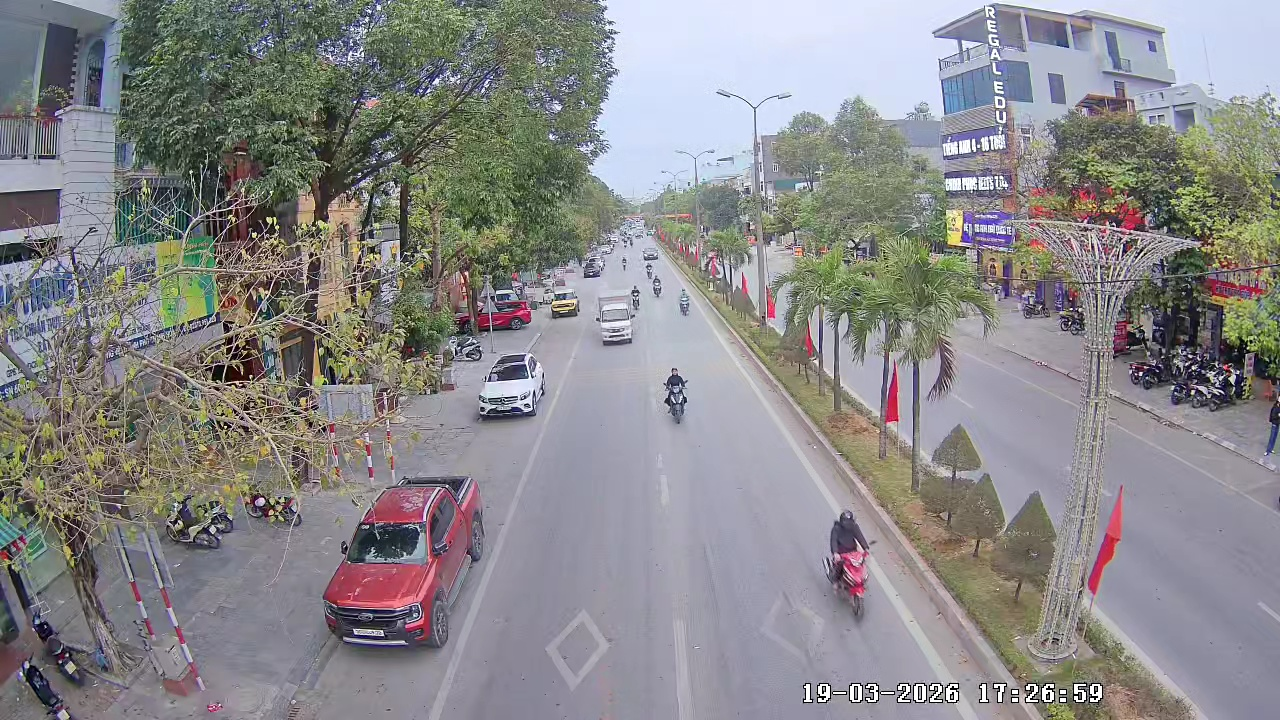car: (322, 472, 487, 649), (476, 352, 547, 418), (481, 291, 532, 329), (596, 303, 636, 346), (550, 290, 583, 318)
motorbike: (821, 508, 875, 620), (662, 365, 690, 426), (451, 321, 485, 363), (627, 282, 641, 313), (679, 289, 691, 316)
